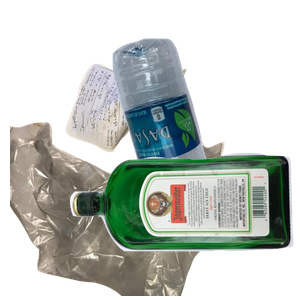glass: (67, 150, 300, 300)
paper: (63, 61, 242, 206)
plastic: (110, 36, 300, 216)
trash: (10, 120, 231, 300)
